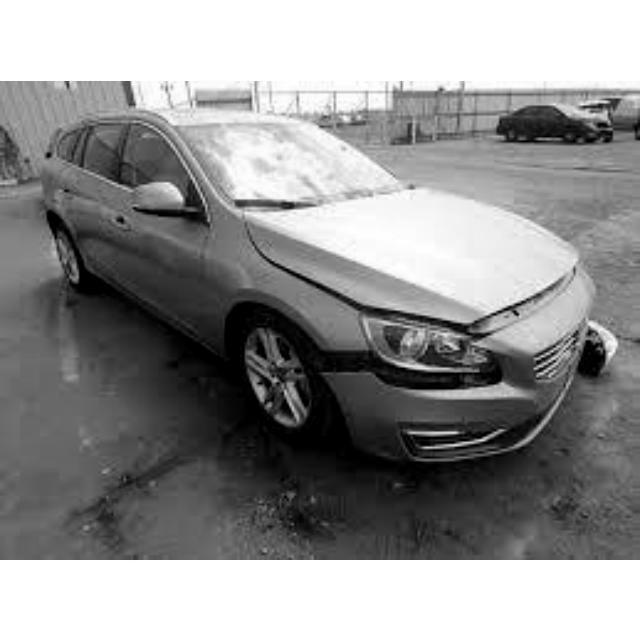front-bumper-dent: (351, 362, 553, 453)
